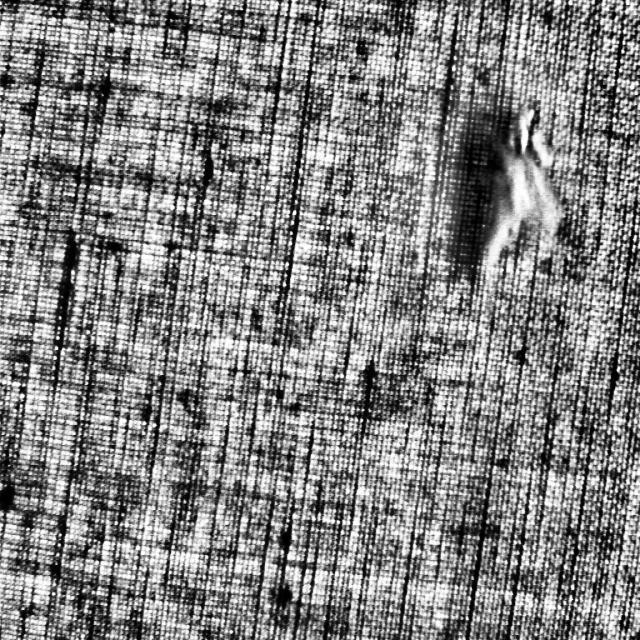gray stitch: (467, 105, 571, 268)
